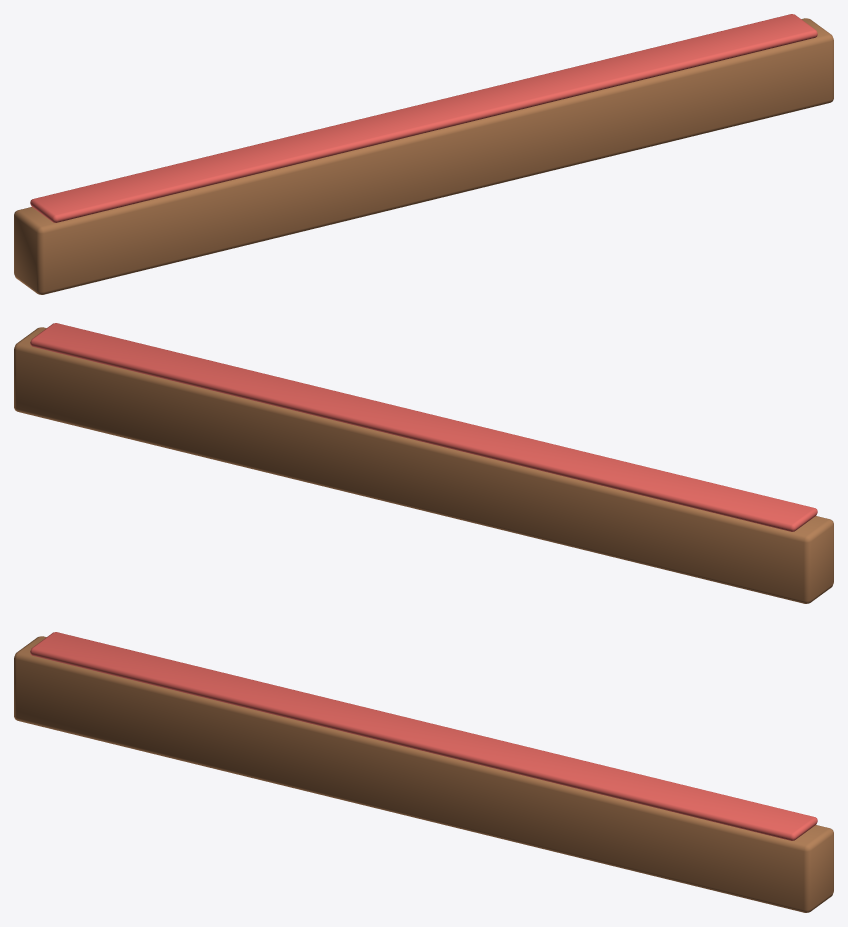
File: floor-threshold.glb
The picture shows the model from 3 angles, top to bottom: view 1: azimuth 30°, elevation 25°; view 2: azimuth 150°, elevation 25°; view 3: azimuth 330°, elevation 25°; orthographic projection.
Parts seen in each view (by area): view 1: ShellFloorThreshold_Plinth, ShellFloorThreshold_Strip; view 2: ShellFloorThreshold_Plinth, ShellFloorThreshold_Strip; view 3: ShellFloorThreshold_Plinth, ShellFloorThreshold_Strip.
Boxes of the visible parts, x1,y1,x2,y2 form: ShellFloorThreshold_Plinth: [14, 18, 833, 294]; ShellFloorThreshold_Strip: [30, 14, 817, 222]; ShellFloorThreshold_Plinth: [14, 327, 833, 603]; ShellFloorThreshold_Strip: [30, 323, 817, 531]; ShellFloorThreshold_Plinth: [14, 636, 833, 912]; ShellFloorThreshold_Strip: [30, 632, 817, 840].
Bounding box in the file's own units: 2 × 0.183 × 0.12.
